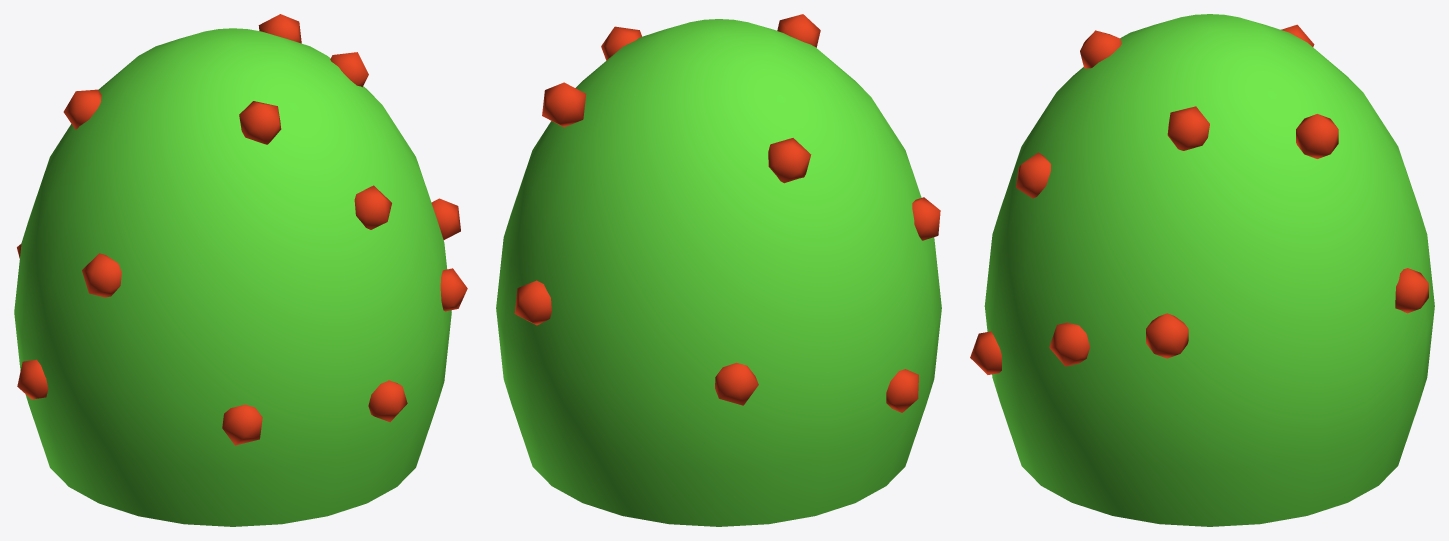
File: Bush_4.fbx
3 views of the same model, side by side, from view 1: azimuth 30°, elevation 25°; view 2: azimuth 150°, elevation 25°; view 3: azimuth 270°, elevation 25° (orthographic). The views are drawn at different scales.
Visible parts, largest first — view 1: Bush_4; view 2: Bush_4; view 3: Bush_4.
Part boxes in pixels (bbox=[...]): Bush_4: bbox=[14, 14, 467, 526]; Bush_4: bbox=[496, 14, 941, 526]; Bush_4: bbox=[970, 14, 1434, 526].
Size of the model in its own units: 0.602 by 0.5663 by 0.5743.
